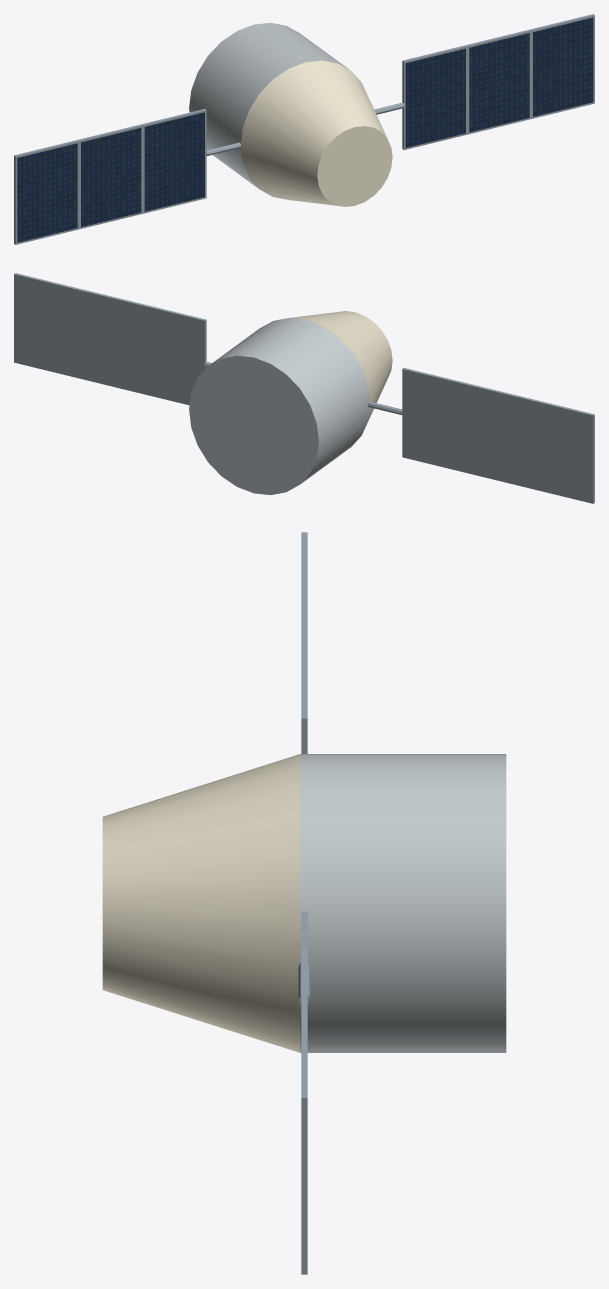
File: dragon-1.glb
3 views of the same model, one above another, from view 1: azimuth 30°, elevation 25°; view 2: azimuth 150°, elevation 25°; view 3: azimuth 270°, elevation 25° (orthographic). The views are drawn at different scales.
Parts seen in each view (by area): view 1: Photovoltaic laminates (×6), Return capsule, Trunk, Array frame (×6); view 2: Array frame (×6), Trunk, Return capsule; view 3: Trunk, Return capsule, Array frame.
Boxes of the visible parts, x1,y1,x2,y2 form: Photovoltaic laminates (×6): (17,17,593,242); Return capsule: (241,60,392,206); Trunk: (189,22,349,188); Array frame (×6): (14,14,594,244); Array frame (×6): (14,273,594,503); Trunk: (189,318,370,495); Return capsule: (290,311,392,427); Trunk: (300,754,506,1052); Return capsule: (102,754,300,1052); Array frame: (301,1035,307,1274).
Size of the model in its own units: 16.5 by 3.7 by 4.98.
4 materials, 1 textured.
